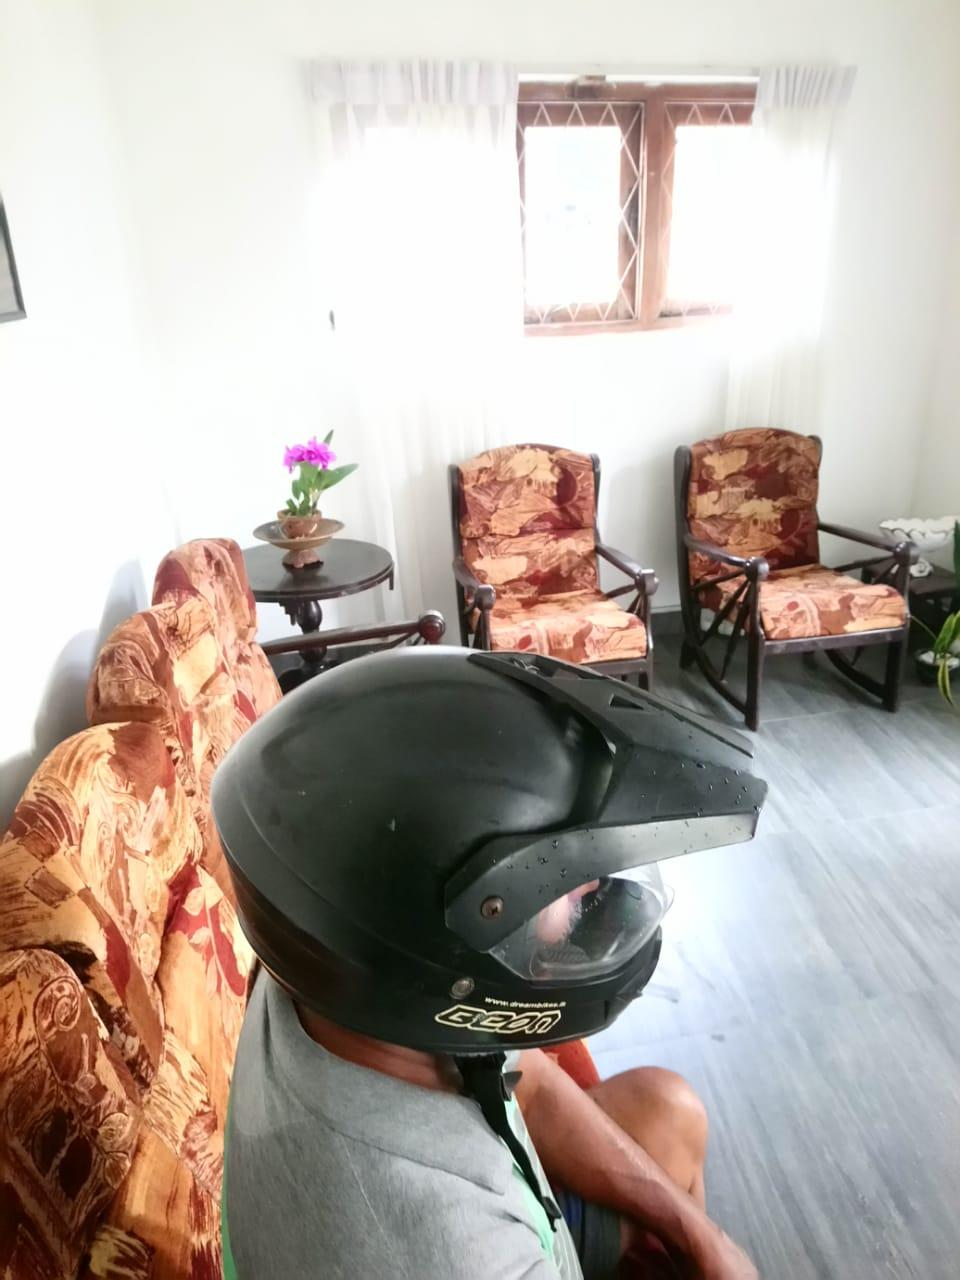helmet: (209, 646, 768, 1055)
